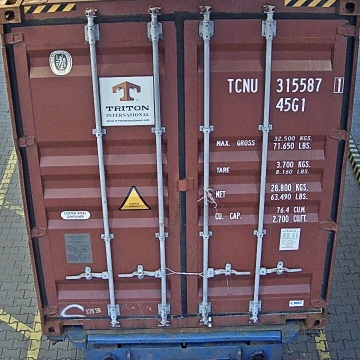serial_id: (227, 77, 342, 92)
